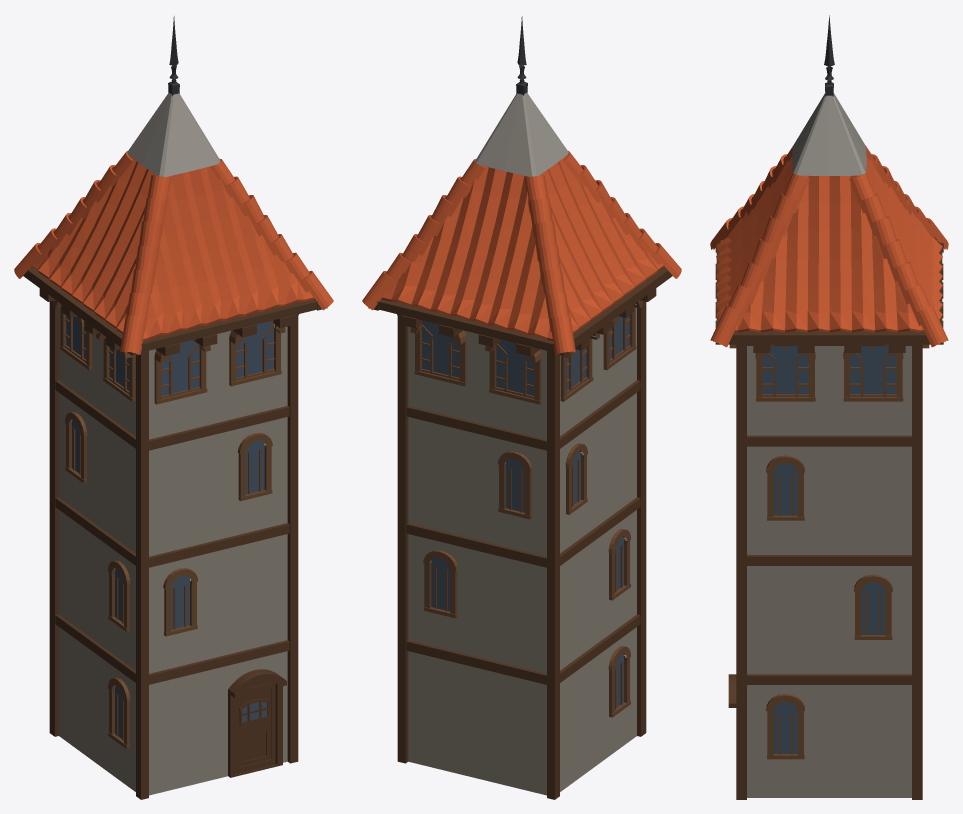
The model's file is tower.obj.
3 views of the same model, side by side, from view 1: azimuth 30°, elevation 25°; view 2: azimuth 150°, elevation 25°; view 3: azimuth 270°, elevation 25° (orthographic).
Bounding box in the file's own units: 5.65 × 18.8 × 5.43.
